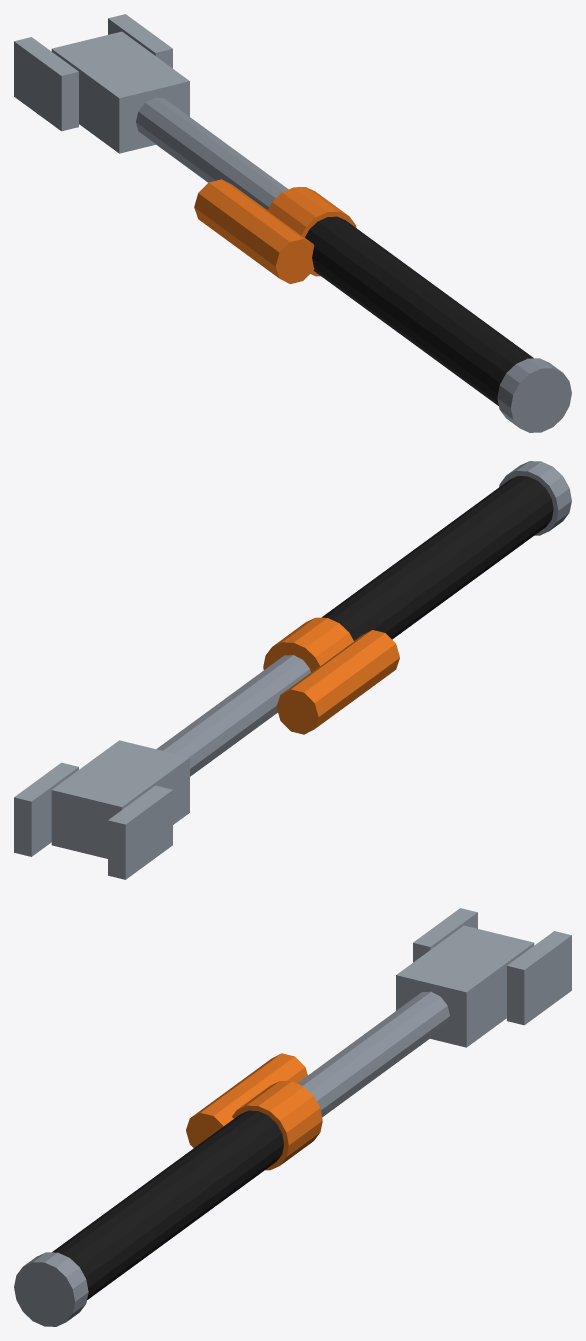
The model's file is wrench.glb.
3 renders of one model, top to bottom at view 1: azimuth 30°, elevation 25°; view 2: azimuth 150°, elevation 25°; view 3: azimuth 330°, elevation 25°, orthographic.
Parts seen in each view (by area): view 1: handle, head, hyd, shaft, jaw1, pommel, collar, jaw2; view 2: handle, head, hyd, shaft, jaw1, jaw2, collar, pommel; view 3: handle, head, shaft, jaw2, pommel, collar, hyd, jaw1.
Boxes of the visible parts, x1,y1,x2,y2 form: handle: (305,216,533,405); head: (51,31,189,153); hyd: (194,179,314,283); shaft: (136,97,288,210); jaw1: (14,37,78,131); pommel: (497,358,571,432); collar: (267,187,356,276); jaw2: (108,14,172,68); handle: (321,476,553,640); head: (51,740,189,858); hyd: (276,630,399,734); shaft: (156,655,310,776); jaw1: (108,785,172,879); jaw2: (14,762,78,856); collar: (263,617,353,672); pommel: (499,461,571,535); handle: (52,1110,283,1299); head: (396,925,534,1047); shaft: (297,991,449,1117); jaw2: (507,931,571,1025); pommel: (14,1252,88,1326); collar: (232,1081,322,1170); hyd: (186,1053,307,1147); jaw1: (413,908,477,962).
Size of the model in its own units: 0.1005 by 0.052 by 0.695.
